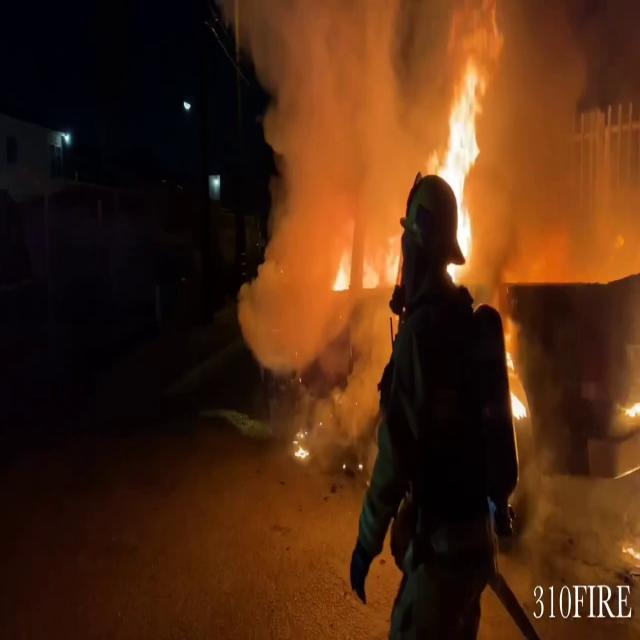Fire: (434, 40, 504, 267)
Smoke: (236, 1, 441, 328)
